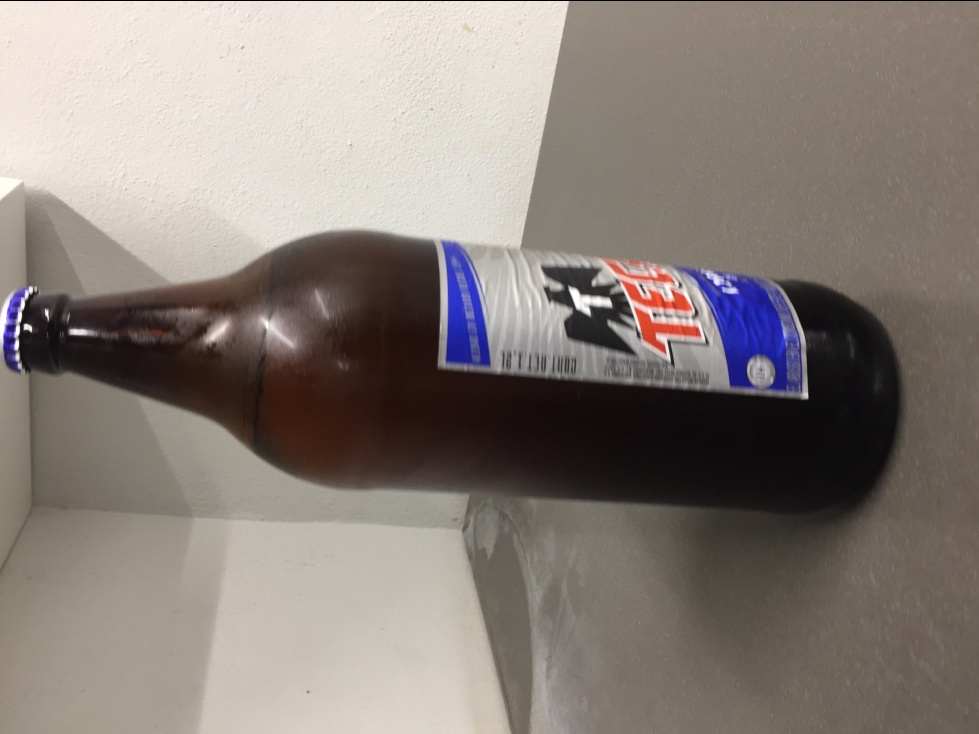tecateC: (6, 229, 903, 516)
